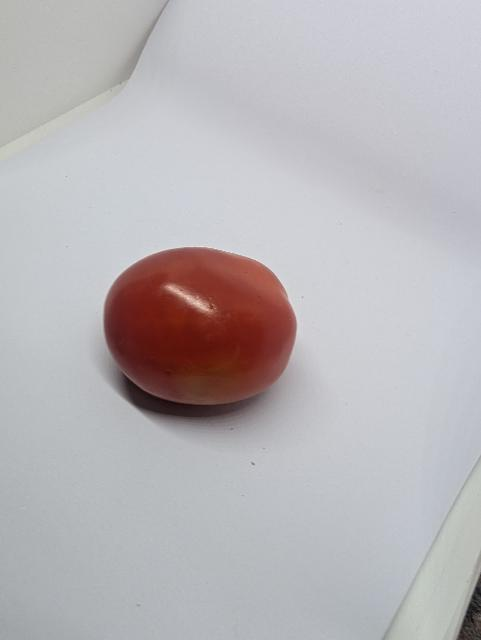red: (78, 224, 340, 440)
